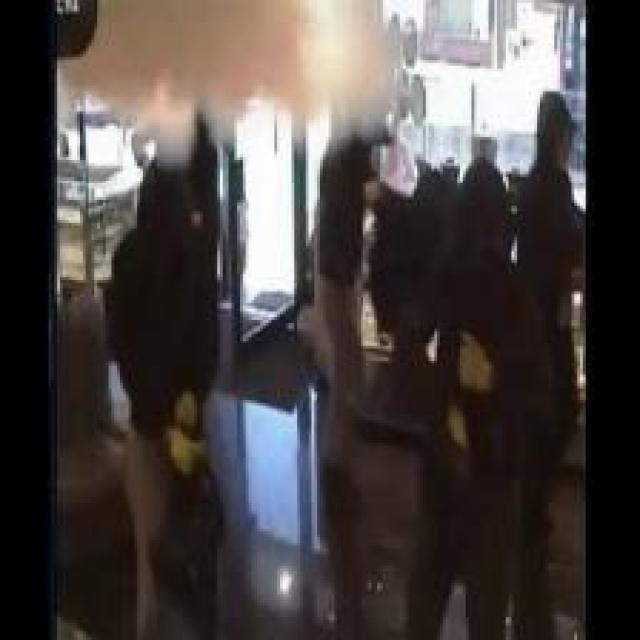fire: (54, 0, 406, 169)
